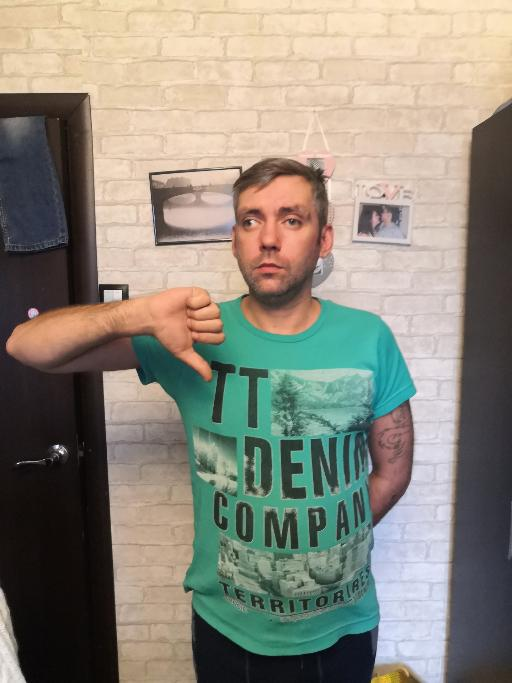dislike: (145, 283, 228, 384)
